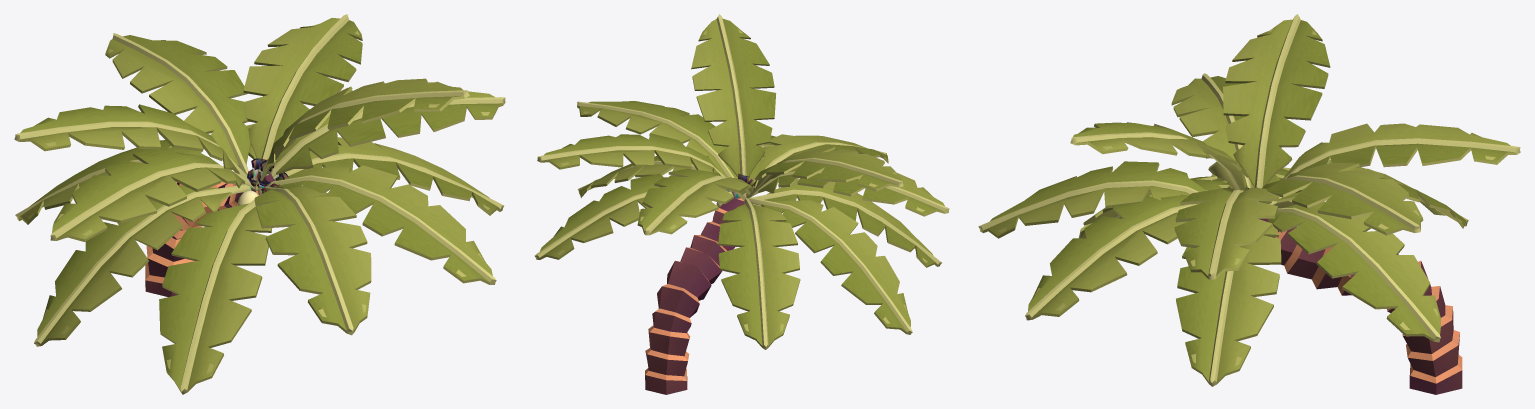
File: CoconutTree.fbx
3 views of the same model, side by side, from view 1: azimuth 30°, elevation 25°; view 2: azimuth 150°, elevation 25°; view 3: azimuth 270°, elevation 25° (orthographic). The views are drawn at different scales.
Parts seen in each view (by area): view 1: PalmTree; view 2: PalmTree; view 3: PalmTree.
Boxes of the visible parts, <box> form: PalmTree: <box>14,14,505,394</box>; PalmTree: <box>534,14,949,394</box>; PalmTree: <box>978,14,1520,394</box>.
Size of the model in its own units: 25.04 by 15.62 by 25.49.
